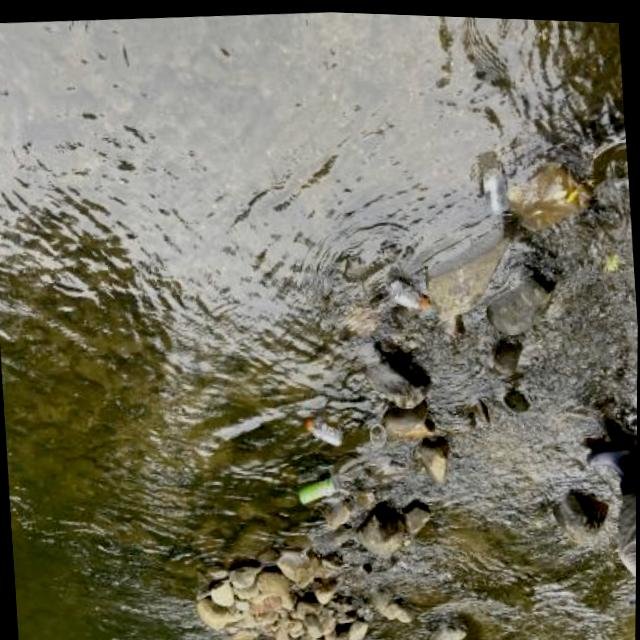Can-Metal: (293, 469, 339, 505)
Plastic: (475, 157, 512, 214), (385, 268, 432, 311), (303, 406, 344, 449)
